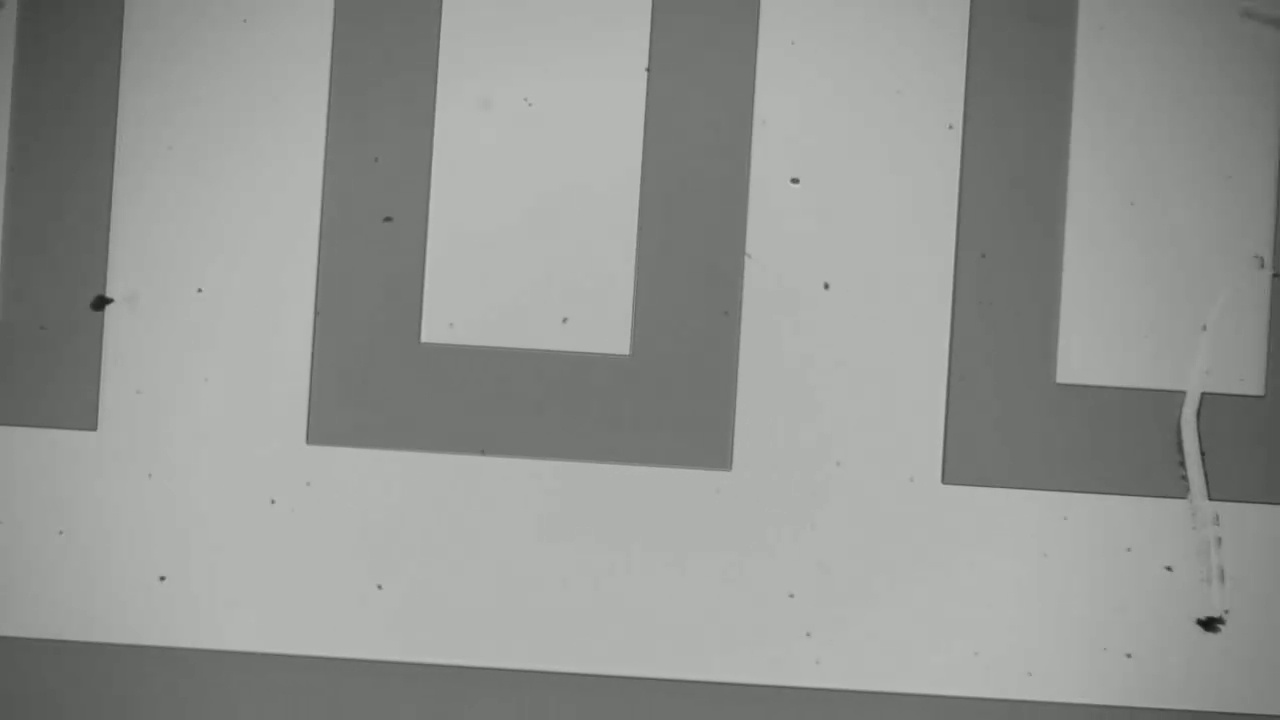Short_circuit: (1156, 362, 1218, 556)
